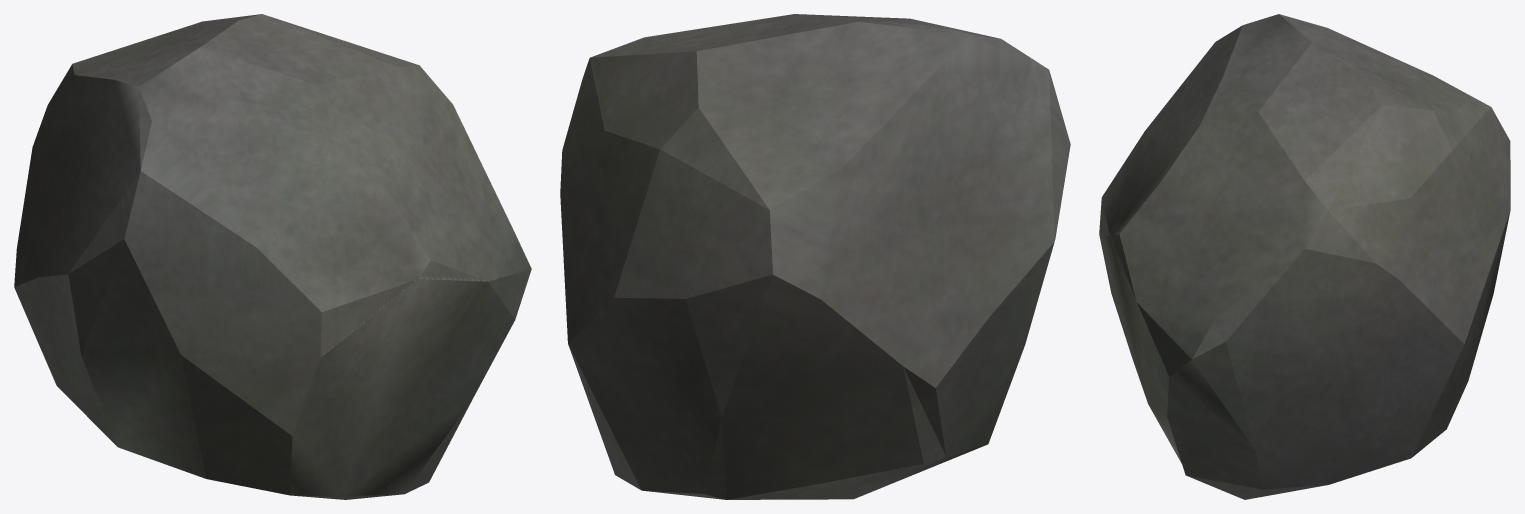
Rendered from Rock_Round_04.FBX.
3 views of the same model, side by side, from view 1: azimuth 30°, elevation 25°; view 2: azimuth 150°, elevation 25°; view 3: azimuth 270°, elevation 25° (orthographic). The views are drawn at different scales.
Parts seen in each view (by area): view 1: Rock_Round_04; view 2: Rock_Round_04; view 3: Rock_Round_04.
Part boxes in pixels (x1,y1,x2,y2): Rock_Round_04: [14, 14, 531, 499]; Rock_Round_04: [560, 14, 1070, 499]; Rock_Round_04: [1099, 14, 1510, 499].
Size of the model in its own units: 71.14 by 69.55 by 72.07.
